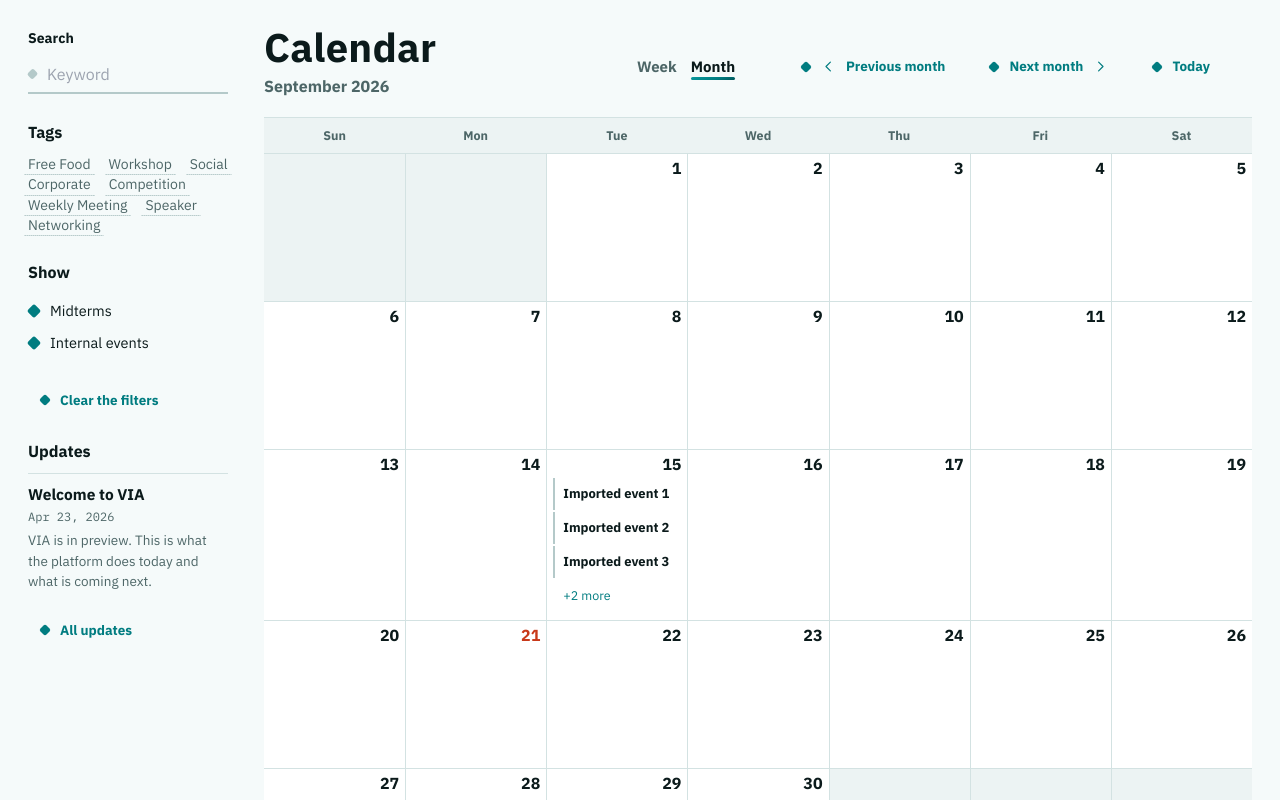
Calendar month view › opens a day that holds more entries than the cell shows
This screenshot has width=1280, height=800.
Expected: the text "Imported event 5" is not shown
Click the button "+2 more" at (617, 596), box x1=553 y1=580 x2=681 y2=612
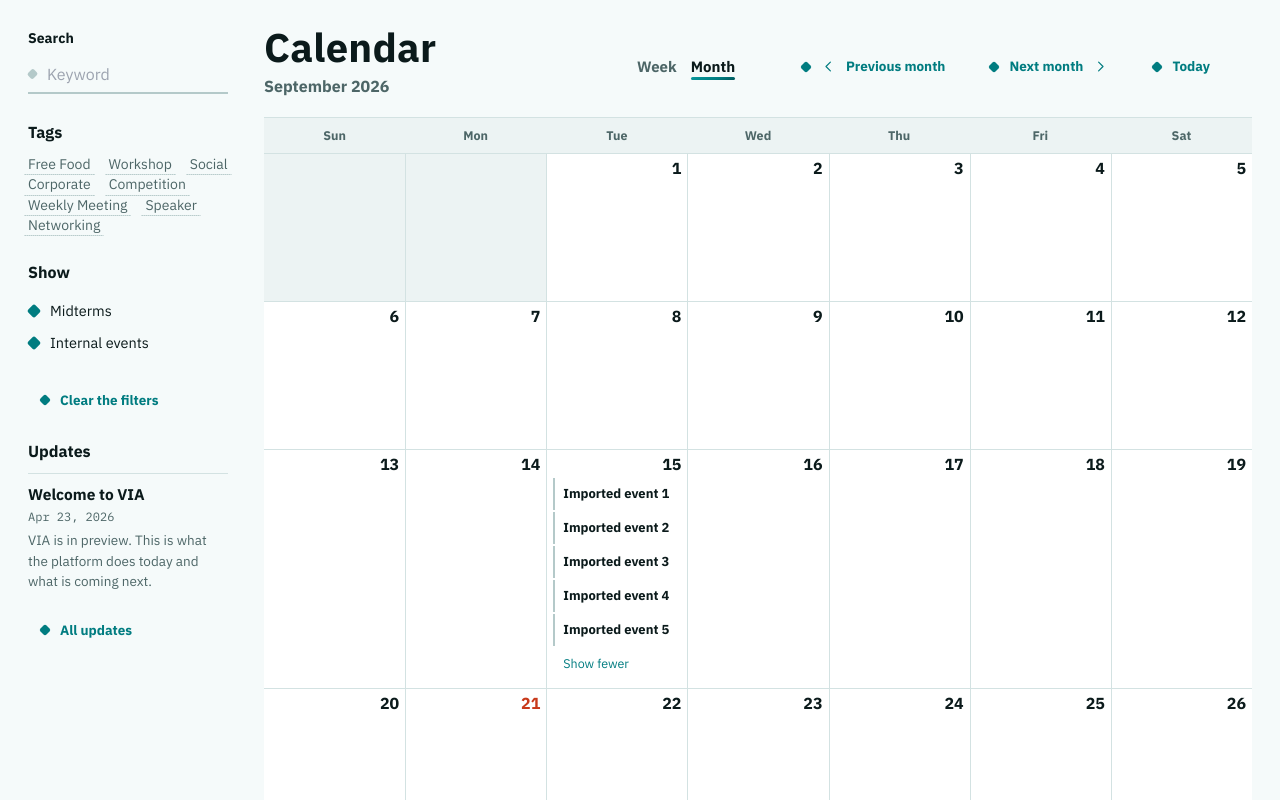
Result: the text "Imported event 5" is shown at x1=563 y1=622 x2=669 y2=638
